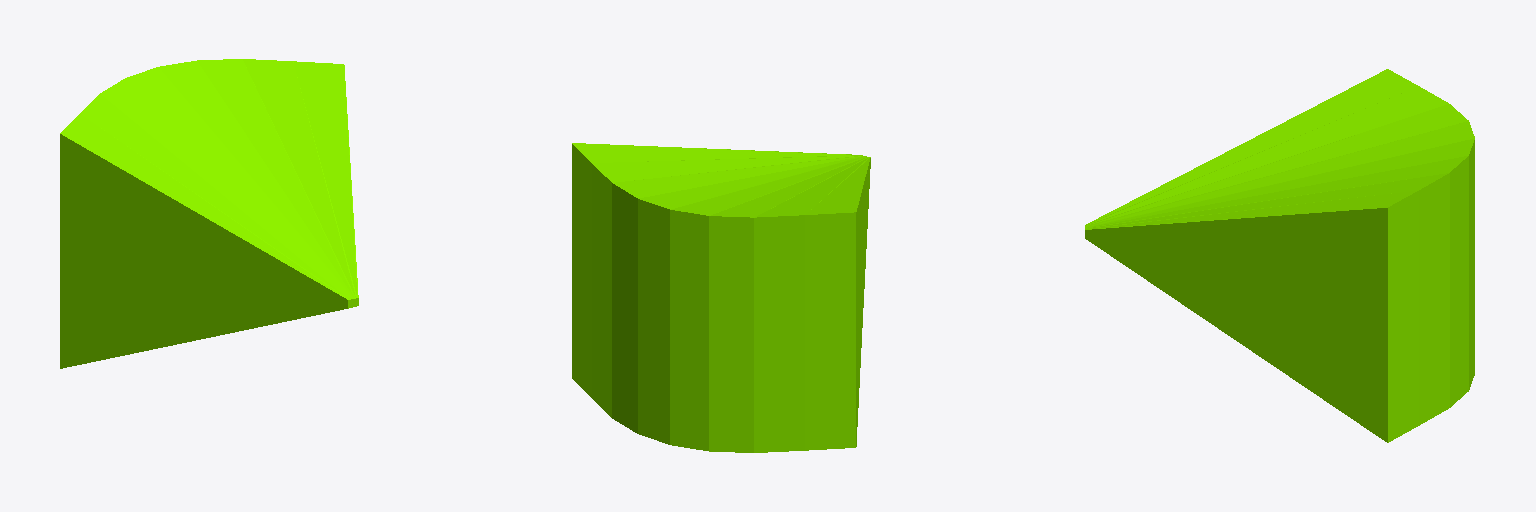
The model's file is FOV_TriggerMesh.obj.
3 views of the same model, side by side, from view 1: azimuth 30°, elevation 25°; view 2: azimuth 150°, elevation 25°; view 3: azimuth 270°, elevation 25° (orthographic).
Visible parts, largest first — view 1: FOV_TriggerMesh; view 2: FOV_TriggerMesh; view 3: FOV_TriggerMesh.
Boxes of the visible parts, <box> form: FOV_TriggerMesh: <box>60,59,358,368</box>; FOV_TriggerMesh: <box>572,143,870,452</box>; FOV_TriggerMesh: <box>1085,69,1474,442</box>.
Bounding box in the file's own units: 4.54 × 3.59 × 5.4.